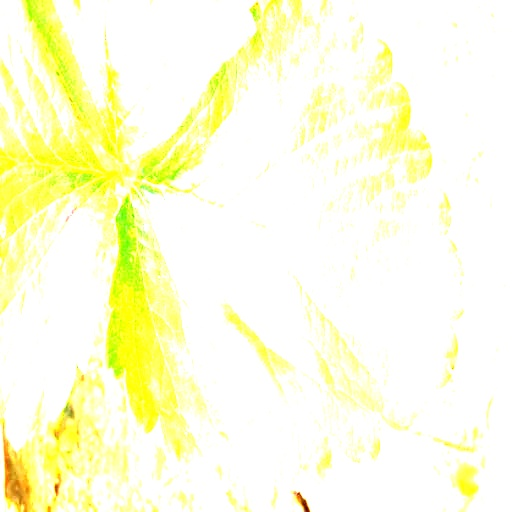Leaf Spot: (104, 0, 467, 494), (16, 0, 259, 164)
